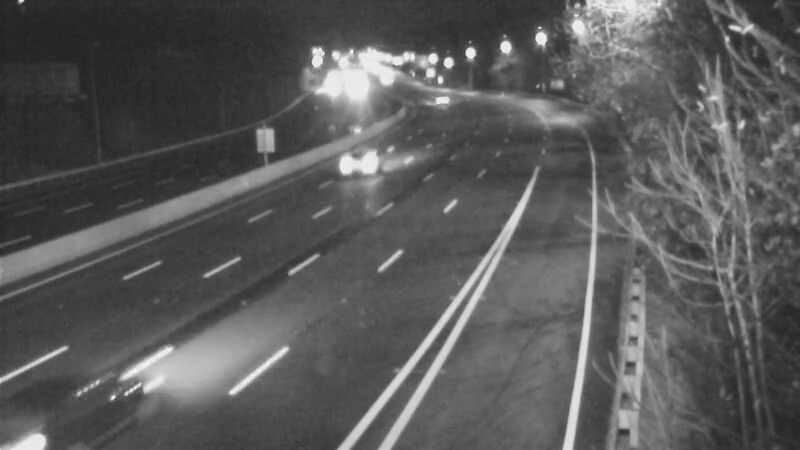vehicle: (18, 348, 128, 450), (326, 119, 406, 199), (418, 74, 468, 124)
